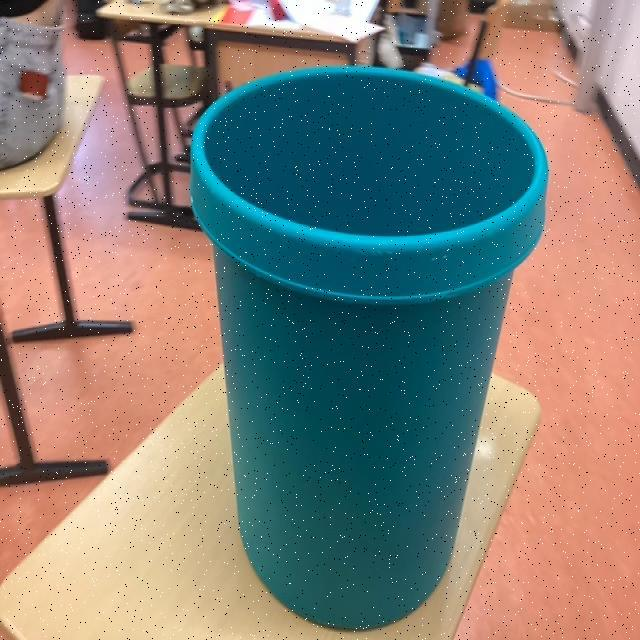garbage container: (168, 51, 552, 632)
